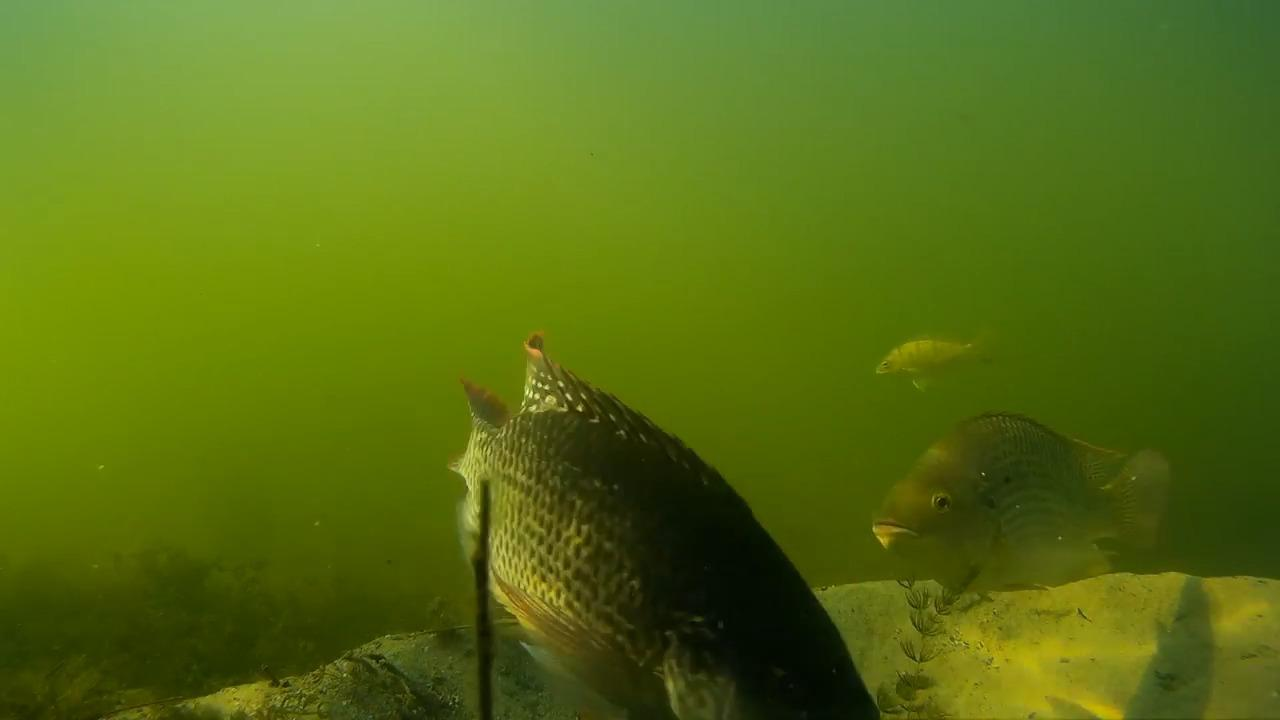Tilapia: (438, 312, 877, 714), (876, 408, 1183, 594), (867, 318, 1016, 390)
